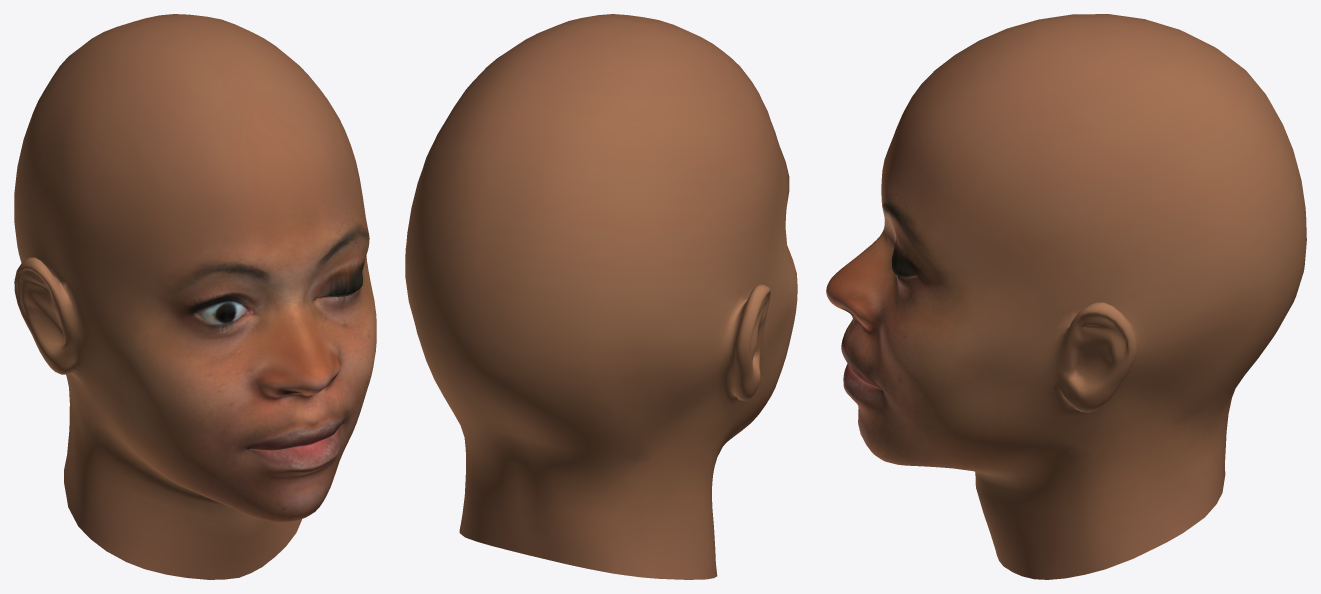
Rendered from v332_obj_ModifierBlinkLeft.obj.
The picture shows the model from 3 angles, left to right: view 1: azimuth 30°, elevation 25°; view 2: azimuth 150°, elevation 25°; view 3: azimuth 270°, elevation 25°; orthographic projection. The views are drawn at different scales.
Visible parts, largest first — view 1: HeadHires; view 2: HeadHires; view 3: HeadHires.
Part boxes in pixels (<box>): HeadHires: <box>14,14,376,579</box>; HeadHires: <box>405,14,797,579</box>; HeadHires: <box>826,14,1306,579</box>.
Size of the model in its own units: 187 by 282 by 233.
